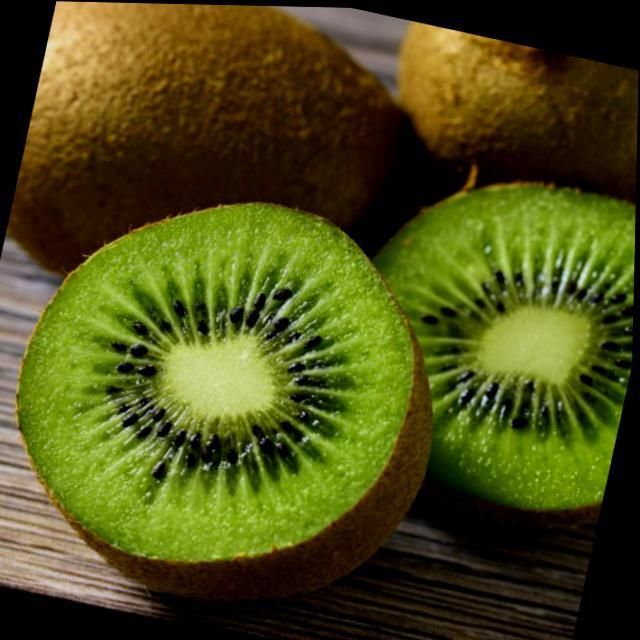kiwi: (1, 1, 451, 346), (375, 19, 640, 229)
